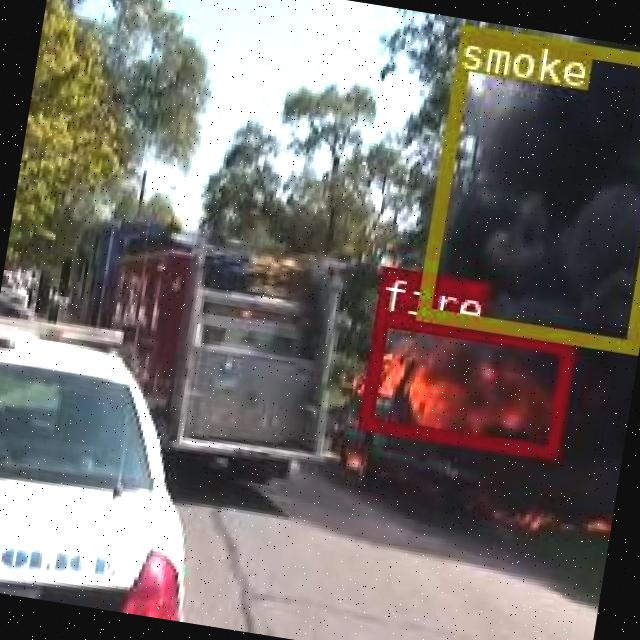fire: (358, 310, 574, 456)
smoke: (415, 22, 640, 349)
